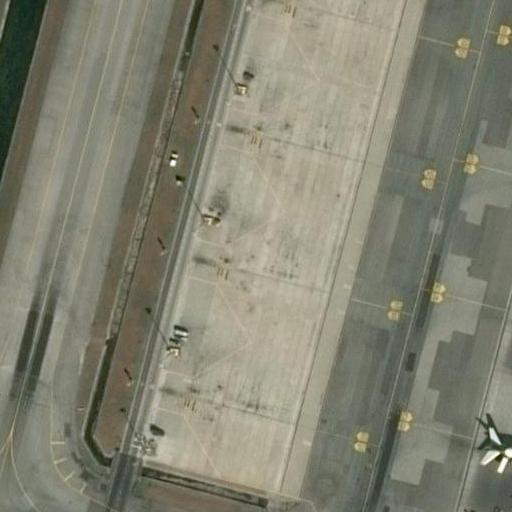Aircraft: (474, 400, 512, 508)
